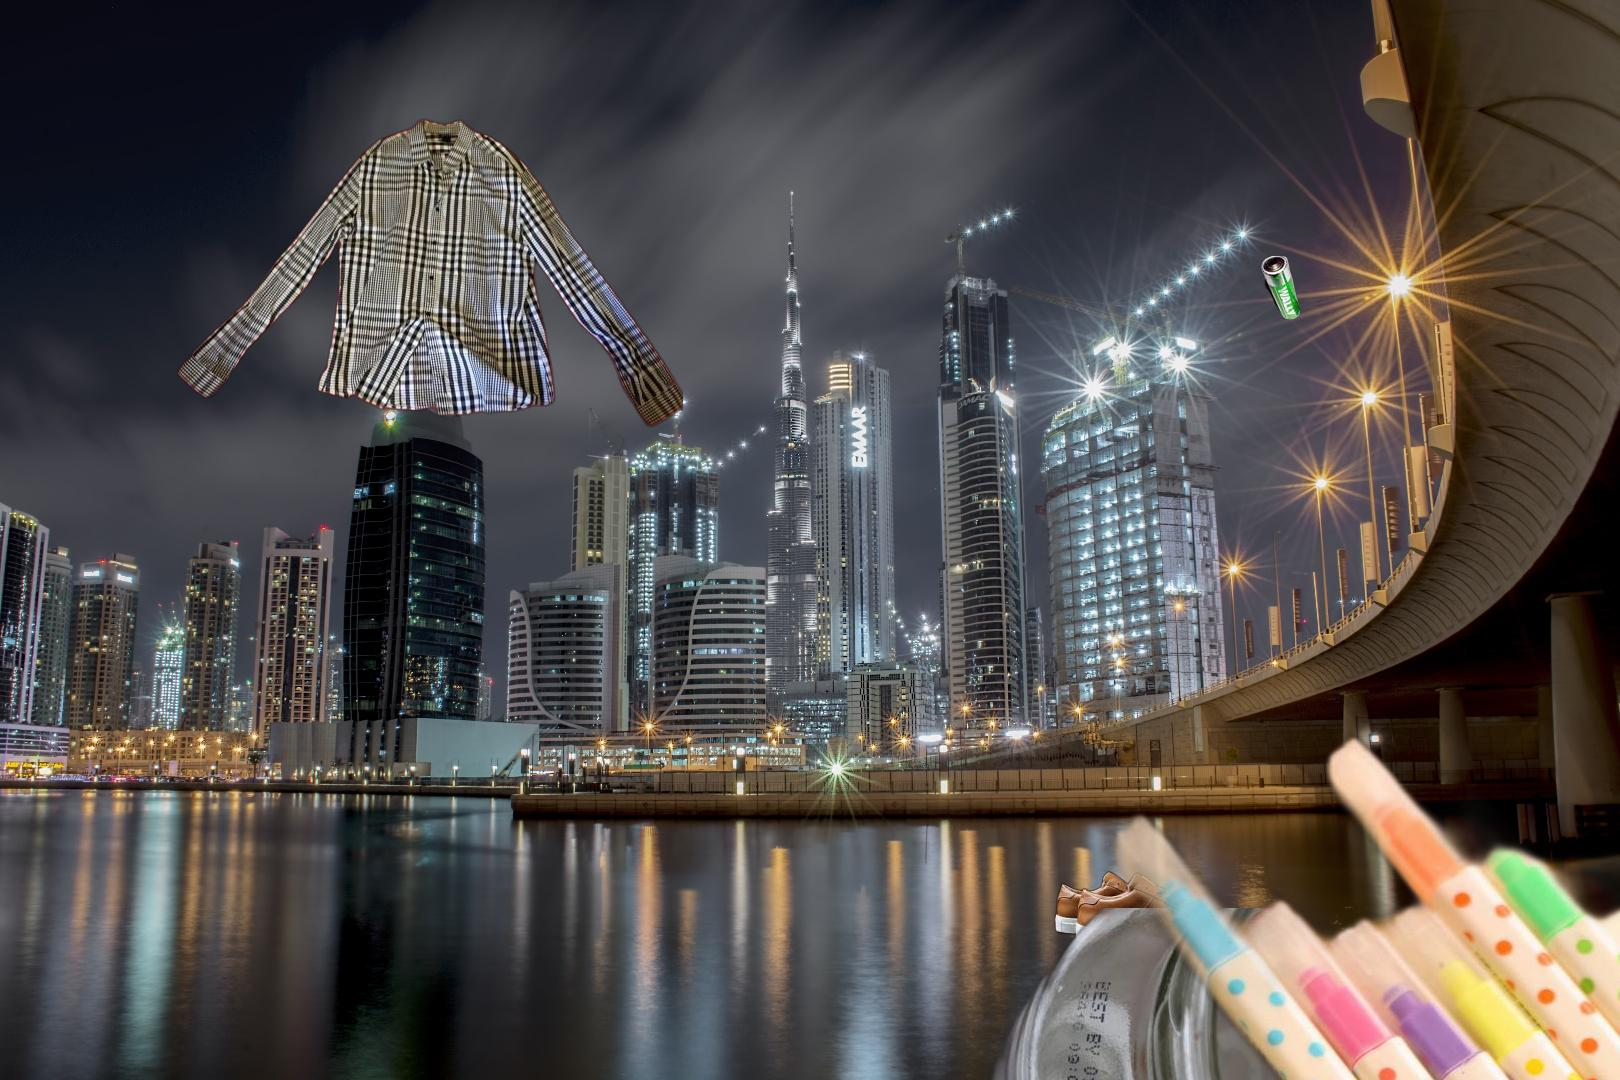battery: (1258, 253, 1375, 324)
clothes: (172, 116, 683, 429)
glass: (981, 908, 1279, 1080)
metal-cans: (1496, 1011, 1620, 1080)
penholder: (857, 727, 1620, 1080)
shoes: (1052, 867, 1246, 950)
